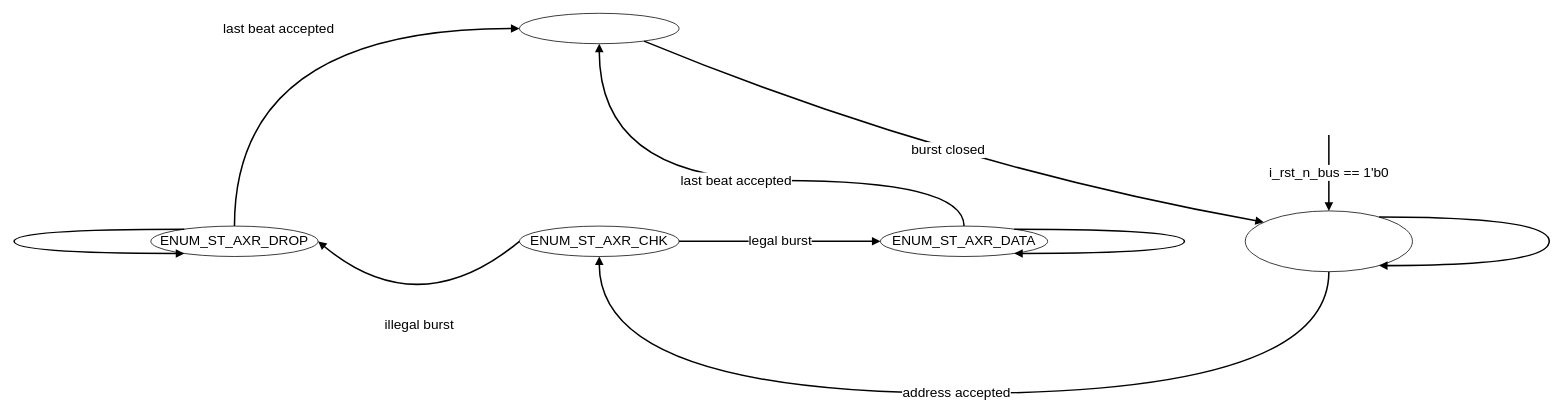
The diagram is 1563 pixels wide and 415 high, and some of its shapes have lost their labels. The centre of each missing label's shape, as x and y in pixels:
"ENUM_ST_AXR_END" belongs at pixel 599 28.
"ENUM_ST_AXR_IDLE" belongs at pixel 1328 241.
